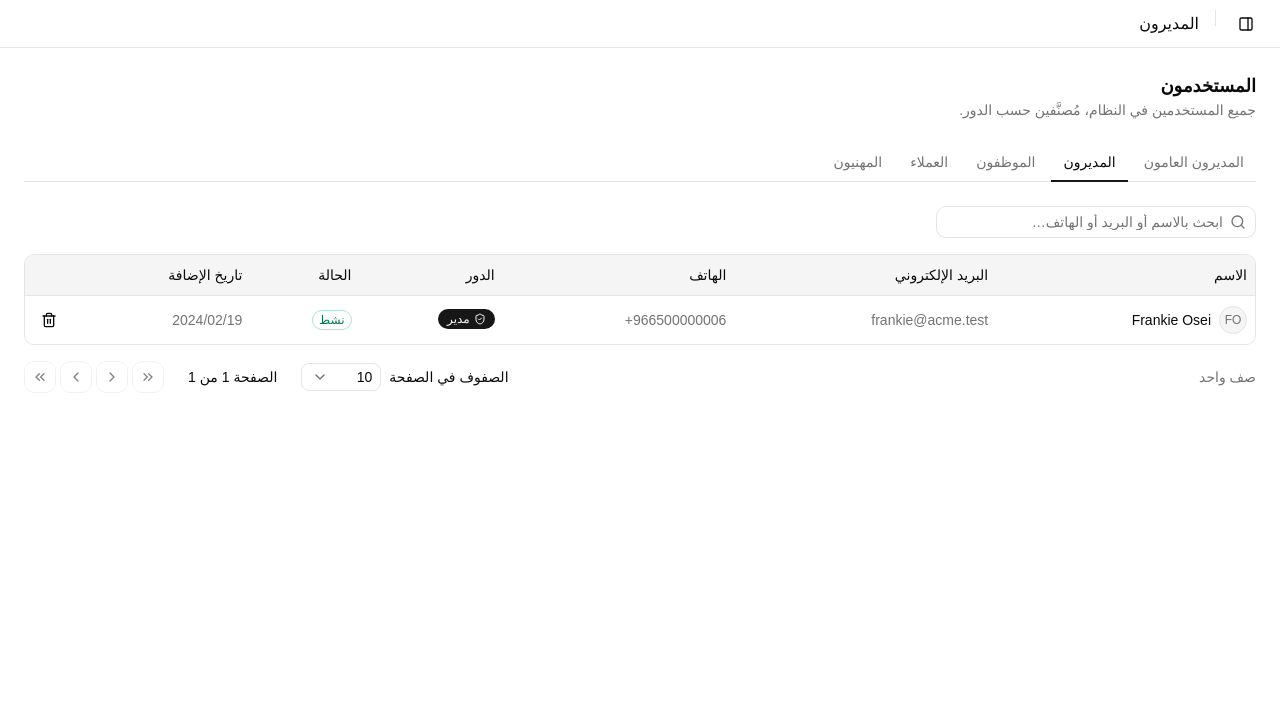
overlay chrome follows the locale direction › puts the dialog close button on the logical end edge
The image size is (1280, 720).
What coordinates should you click on to do the following:
click the text "Frankie Osei"
I would click on:
 (1171, 320)
Its box is x1=1132 y1=310 x2=1211 y2=330.
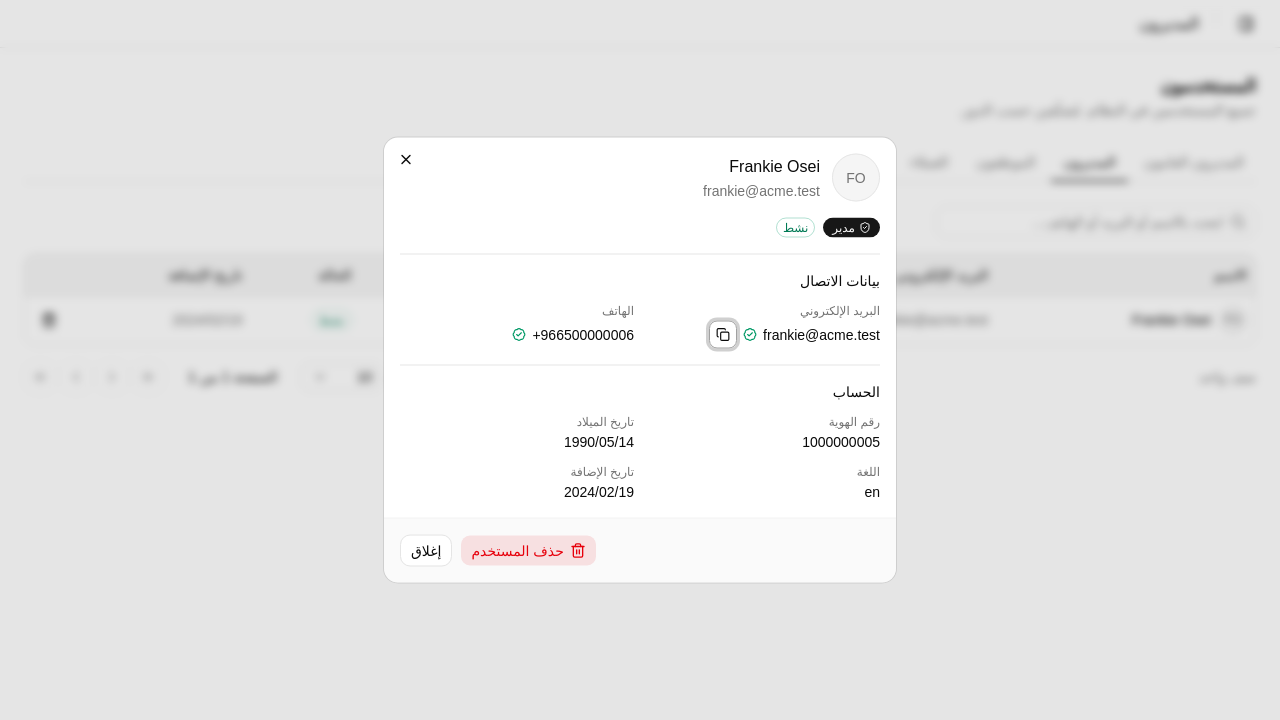
expect the 1st button is shown: met, box x1=392 y1=146 x2=420 y2=174
